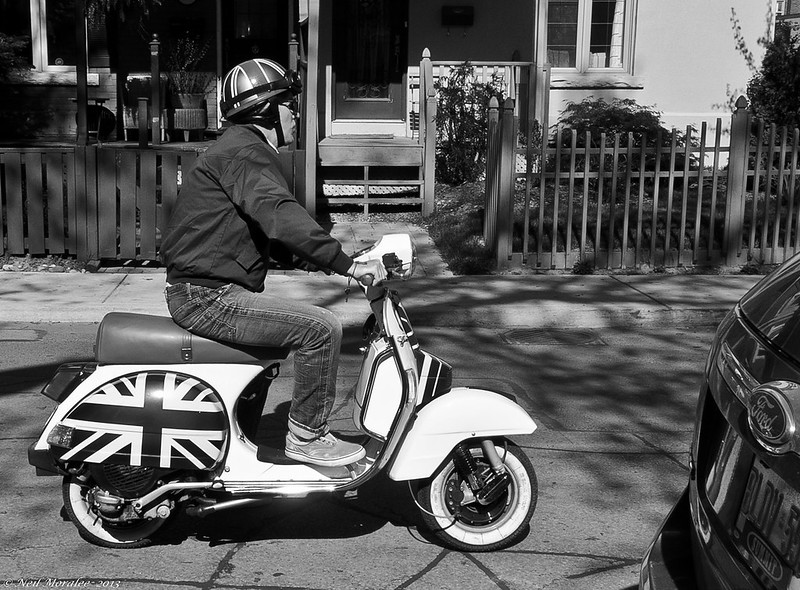helmet: (222, 54, 296, 118)
